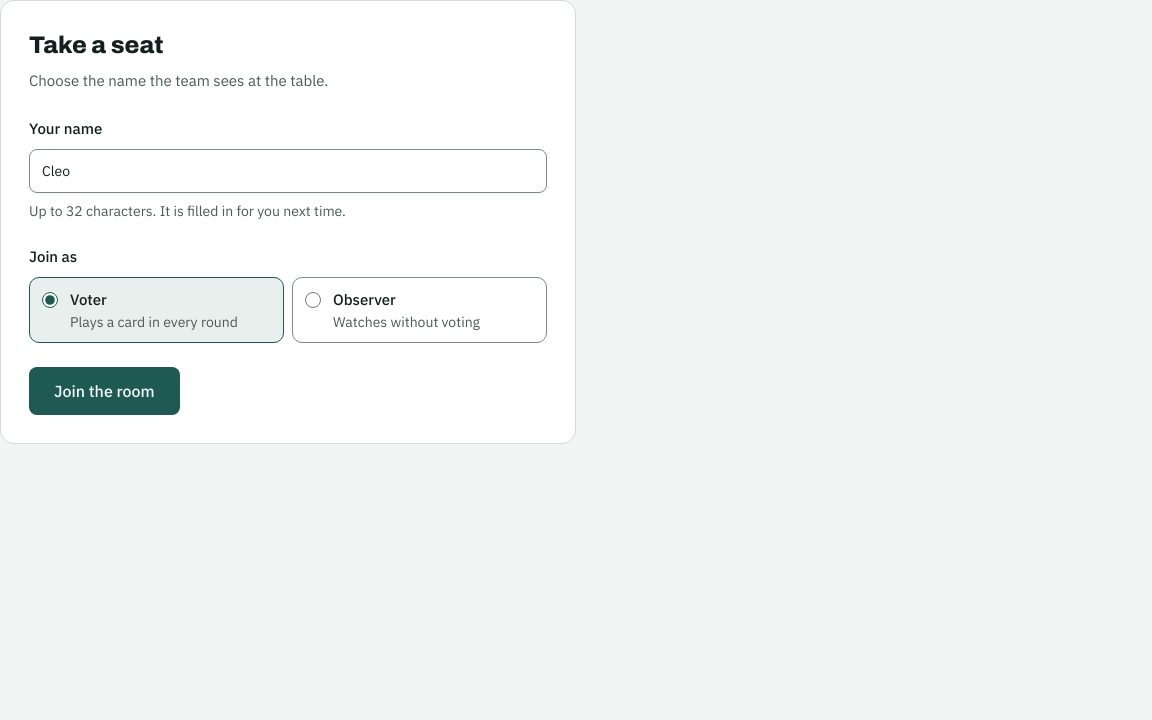
Test case: the join form › joins with the name typed when saving it fails, and says nothing of the save
Replace the text in the field labelled "Your name" with " Cleo  Z " at (288, 171), box [29, 149, 547, 193]
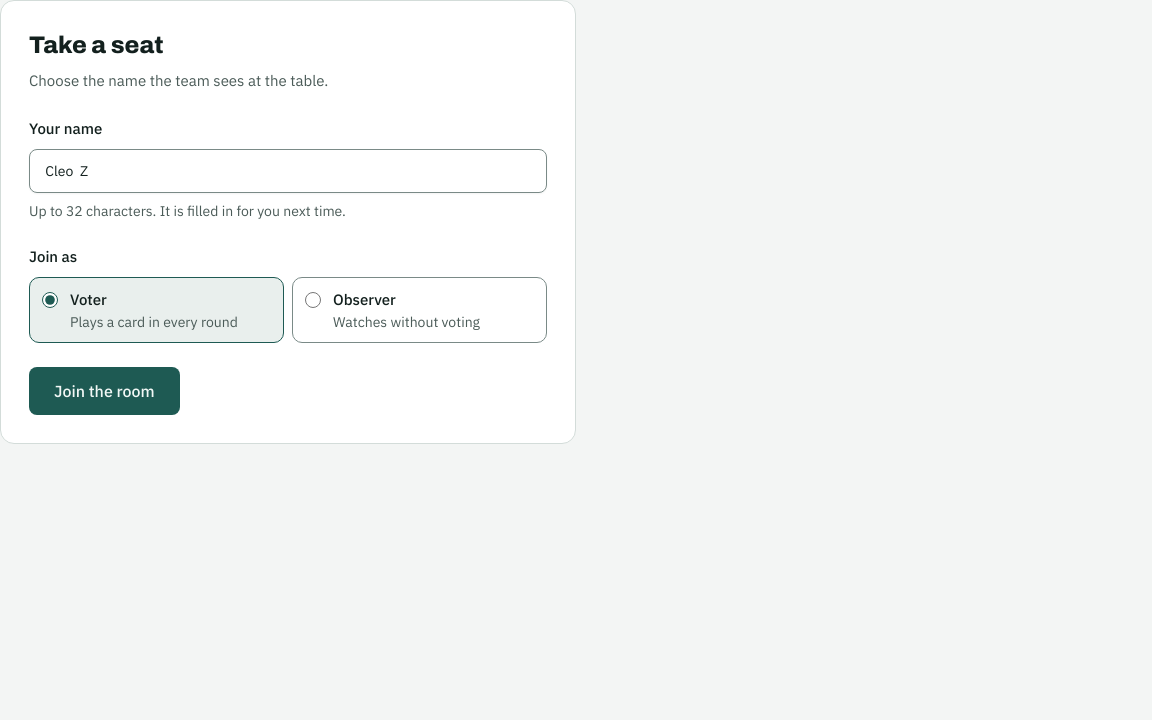
Click the button "Join the room" at (104, 391), box [29, 367, 180, 415]
(page scrolled)
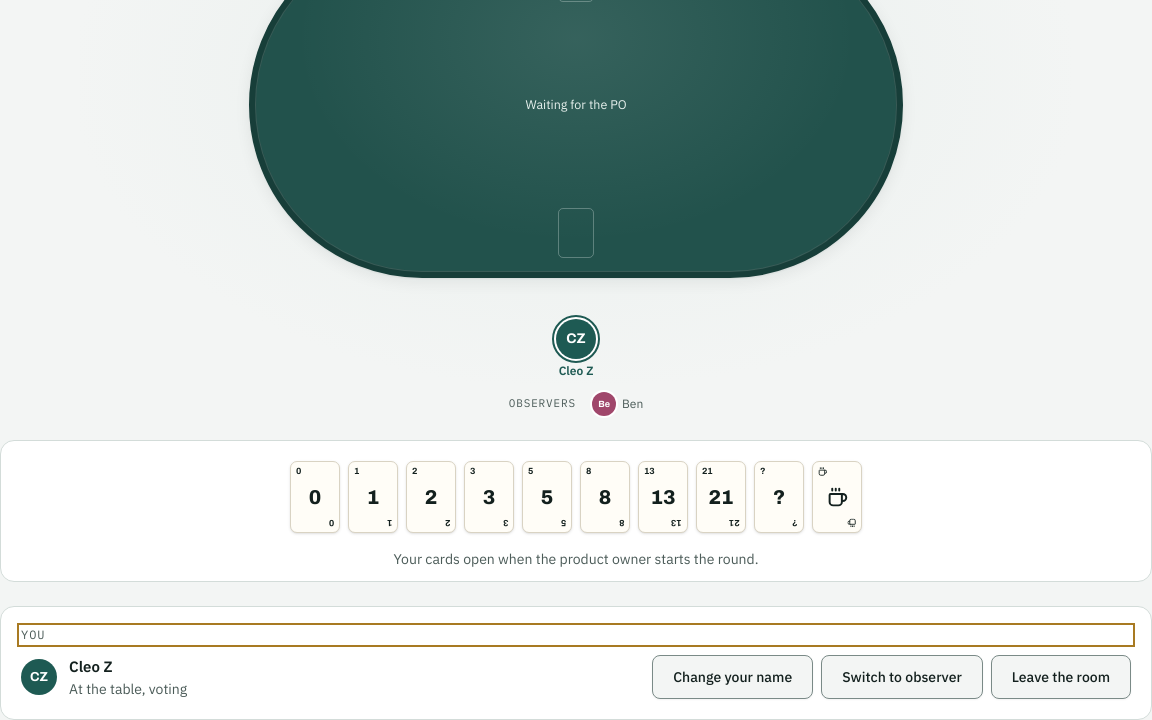
Now the heading "You" is shown, box [21, 627, 46, 642]
